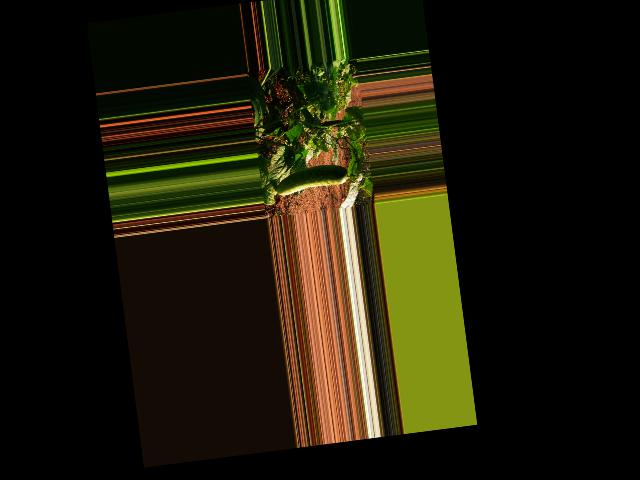cucumber: (273, 162, 348, 196)
